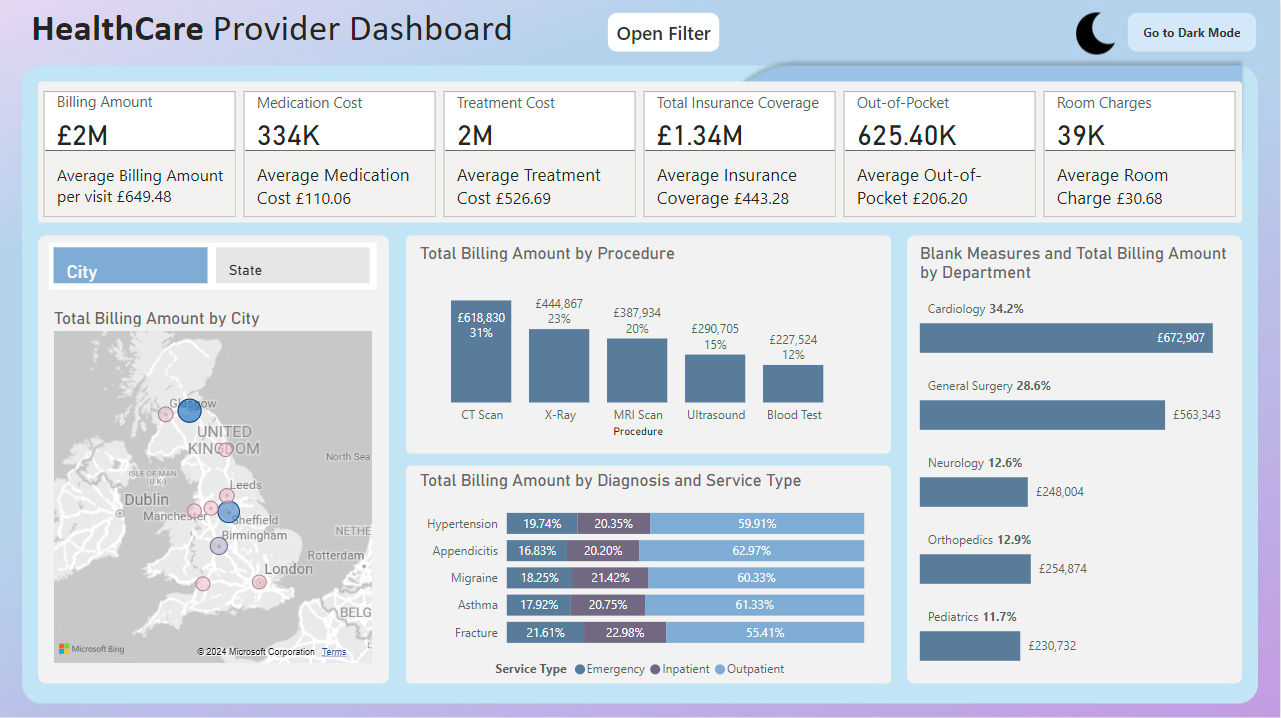

This screenshot's page, from the dashboard's own definition file:
{"tool":"powerbi","page":{"name":"Page 2","canvas":[1280,720],"ordinal":1},"visuals":[{"type":"cardVisual","fields":{"Data":["DAX Calculation.Total Billing Amount","DAX Calculation.Total Medication Cost","DAX Calculation.Total Treatment Cost","DAX Calculation.Total Insurance Coverage","DAX Calculation.Out-of-Pocket","DAX Calculation.Total Room Charges"]},"box":[39.2,86.1,1203.8,136.7],"z":0},{"type":"actionButton","title":"Open","box":[607.6,12.1,112.1,39.4],"z":1000,"group":"g1"},{"type":"map","fields":{"Category":["cities.City"],"Size":["DAX Calculation.Total Billing Amount"]},"box":[49.4,307.6,327.8,360.8],"z":1000},{"type":"advancedSlicerVisual","fields":{"Values":["Patients Location Switch.Patients Location Switch"]},"box":[49.4,243,327.8,46.8],"z":2000},{"type":"clusteredColumnChart","fields":{"Category":["procedures.Procedure"],"Y":["DAX Calculation.Total Billing Amount"]},"box":[415.2,243,446.8,200],"z":3000},{"type":"hundredPercentStackedBarChart","fields":{"Y":["DAX Calculation.Total Billing Amount"],"Category":["diagnoses.Diagnosis"],"Series":["visits.Service Type"]},"box":[415.2,469.6,454.4,217.7],"z":4000},{"type":"clusteredBarChart","fields":{"Category":["departments.Department"],"Y":["DAX Calculation.Blank Measures","DAX Calculation.Total Billing Amount"]},"box":[915.6,242.9,327.3,426],"z":5000},{"type":"textbox","box":[26,0,555.8,64.9],"z":6000},{"type":"actionButton","box":[1127.3,12.1,128.8,39.4],"z":7000},{"type":"group","id":"g1","title":"Slicers Btn","box":[607.6,12.1,112.1,39.4],"z":9000}]}

Visuals, with their boxes in screenshot pixels (x1, y1, x2, y2), scaled from the page's 1280x720 canvas onto the 1281x718 screenshot:
cardVisual - DAX Calculation.Total Billing Amount x DAX Calculation.Total Medication Cost: region(39, 86, 1244, 222)
"Open" actionButton: region(608, 12, 720, 51)
map - cities.City x DAX Calculation.Total Billing Amount: region(49, 307, 377, 667)
advancedSlicerVisual - Patients Location Switch.Patients Location Switch: region(49, 242, 377, 289)
clusteredColumnChart - procedures.Procedure x DAX Calculation.Total Billing Amount: region(416, 242, 863, 442)
hundredPercentStackedBarChart - DAX Calculation.Total Billing Amount x diagnoses.Diagnosis: region(416, 468, 870, 685)
clusteredBarChart - departments.Department x DAX Calculation.Blank Measures: region(916, 242, 1244, 667)
textbox: region(26, 0, 582, 65)
actionButton: region(1128, 12, 1257, 51)
"Slicers Btn" group: region(608, 12, 720, 51)
